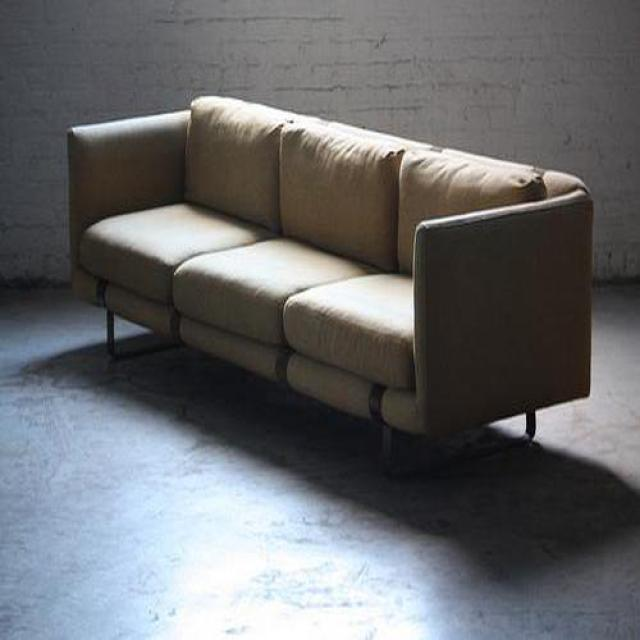sofa: (67, 96, 595, 474)
